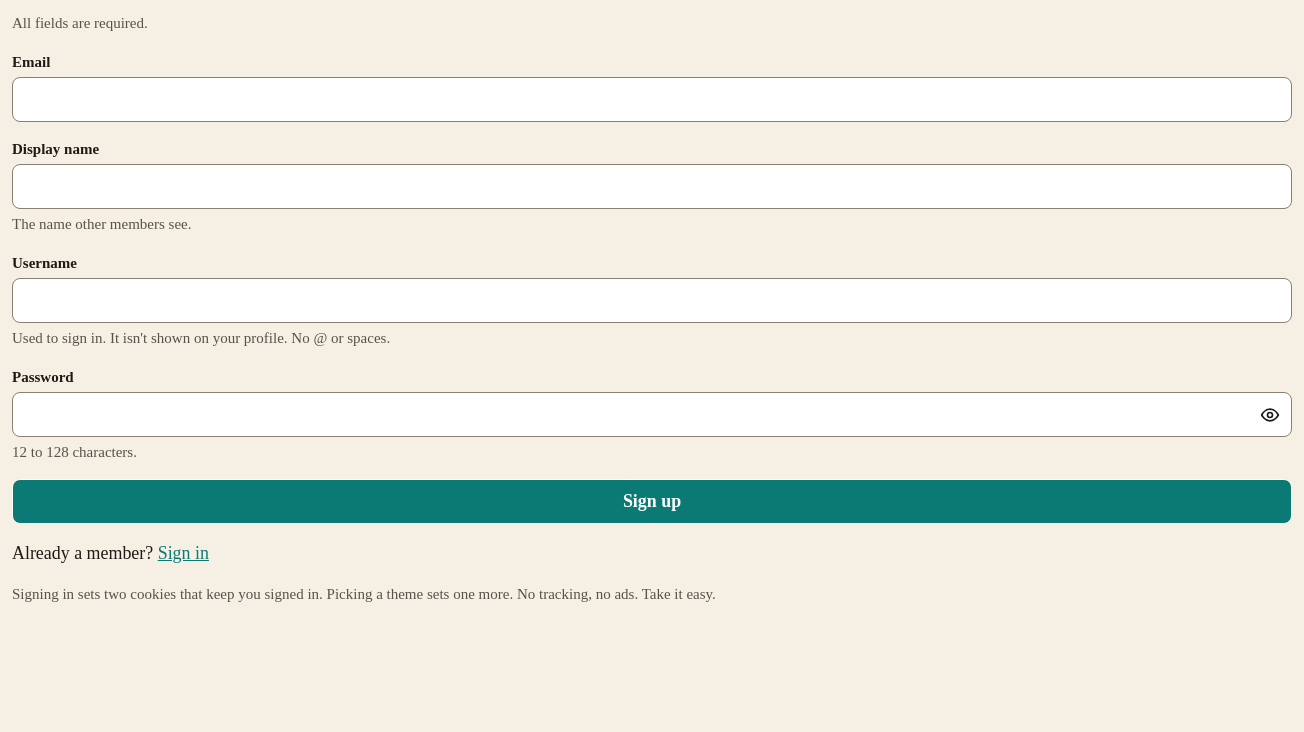
Test case: SignUpForm › keeps what was typed, never the password
Step 1. Type "e2e-walter@example.com" into the field labelled "Email" → (652, 99), box left=12, top=77, right=1292, bottom=122
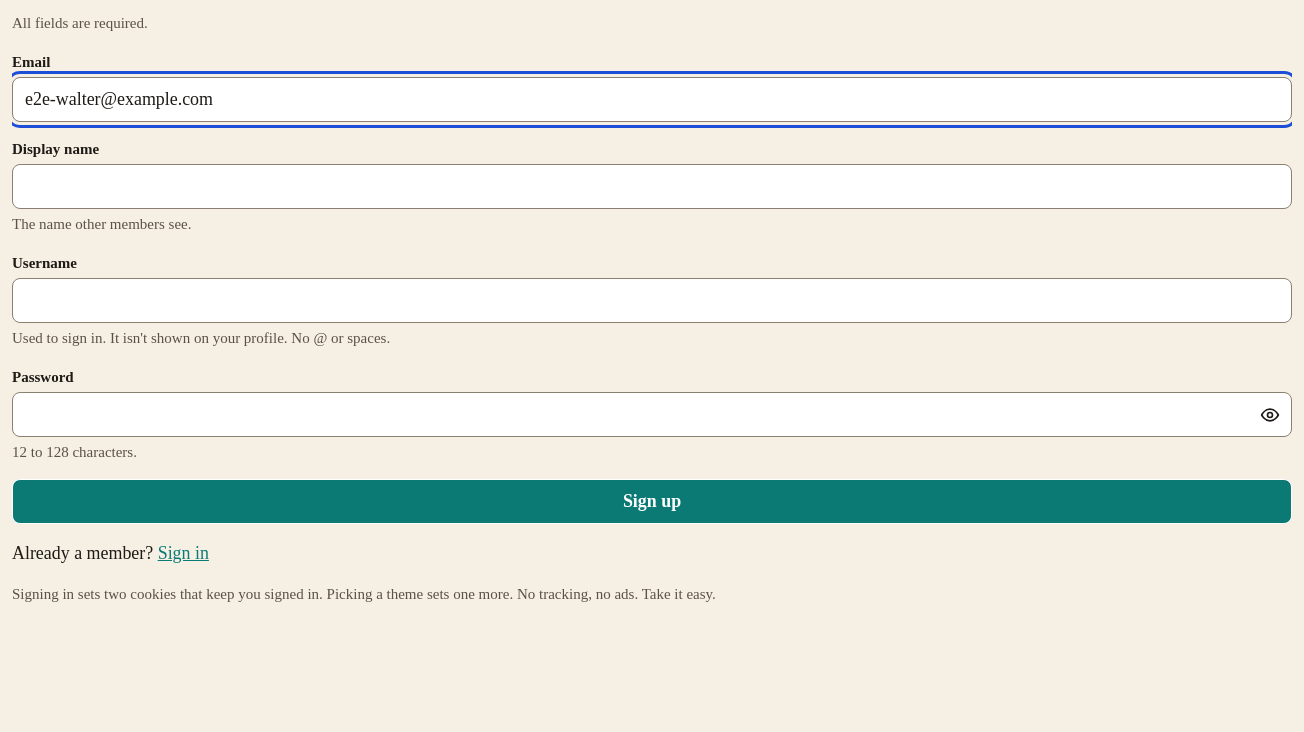
Step 2. Type "Walter" into the field labelled "Display name" → (652, 187), box left=12, top=164, right=1292, bottom=209
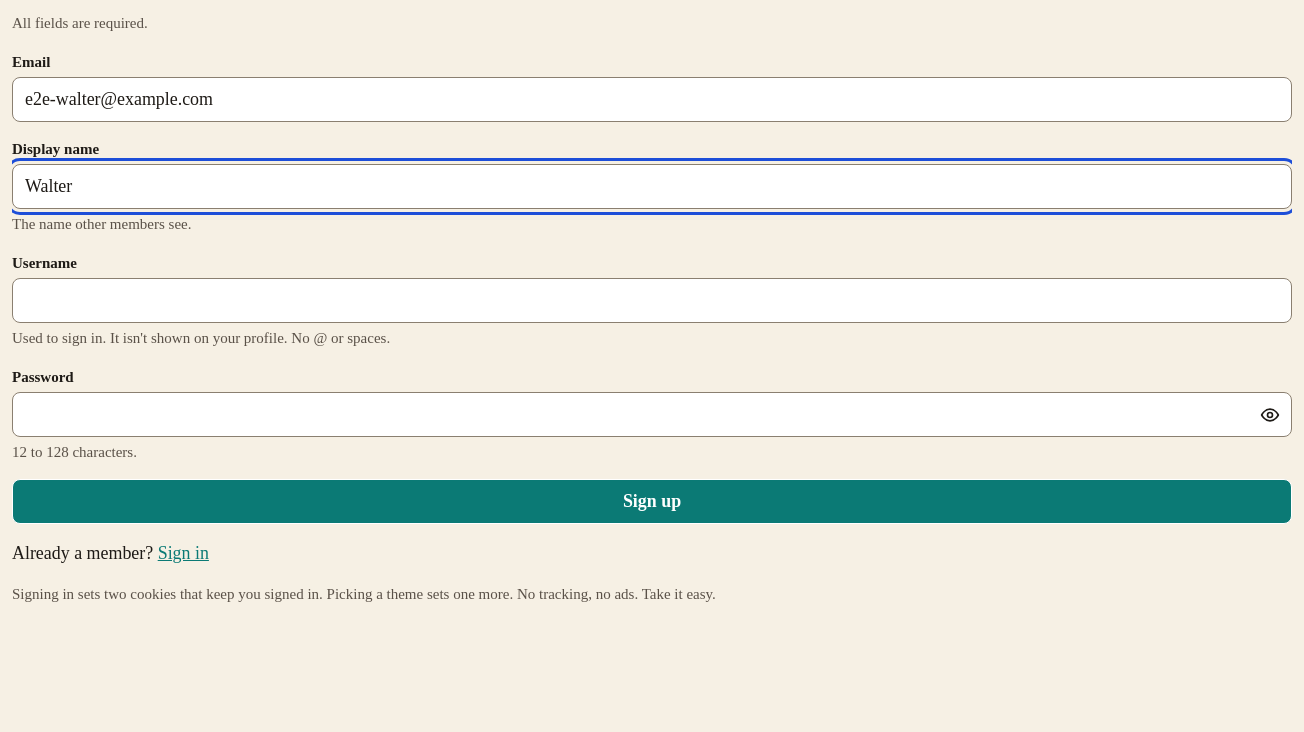
Step 3. Type "e2e-walter" into the field labelled "Username" → (652, 301), box left=12, top=278, right=1292, bottom=323
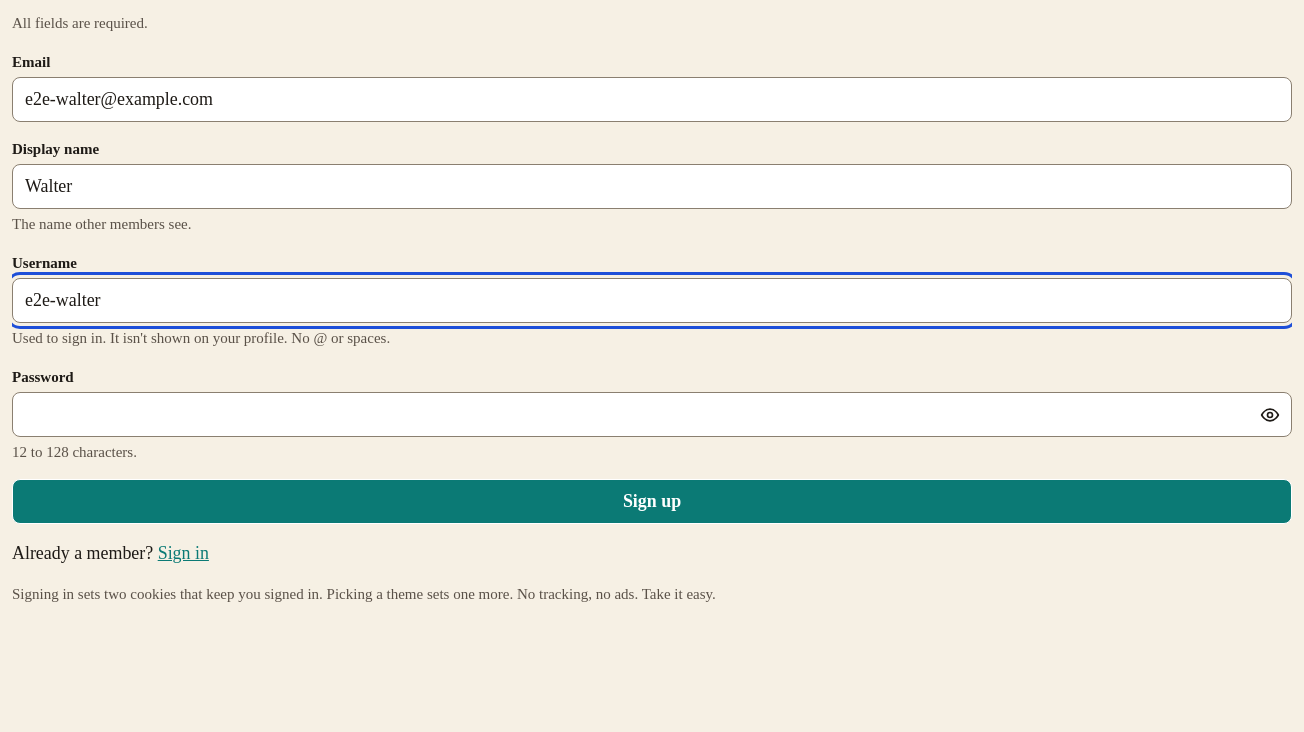
Step 4. Type "not-a-real-password" into the password field labelled "Password" → (652, 415), box left=12, top=392, right=1292, bottom=437
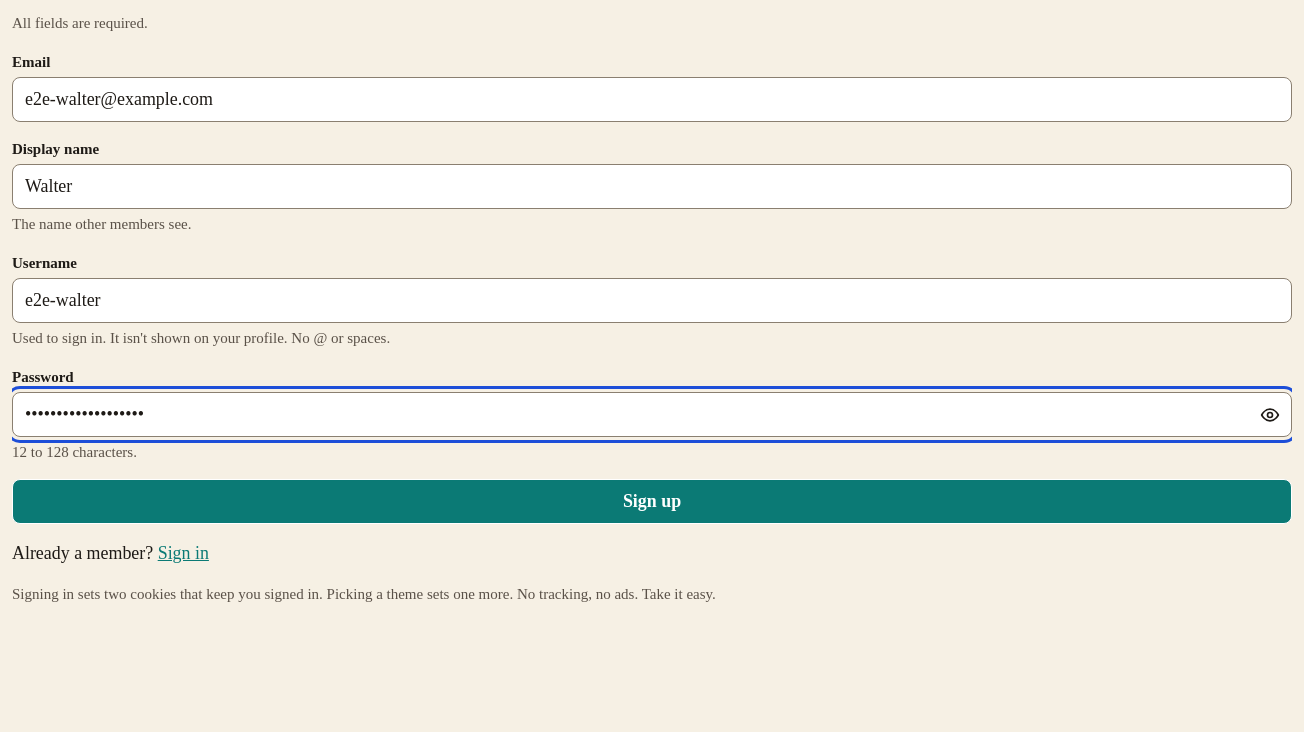
Step 5. Click the button "Sign up" → (652, 502), box left=12, top=479, right=1292, bottom=524
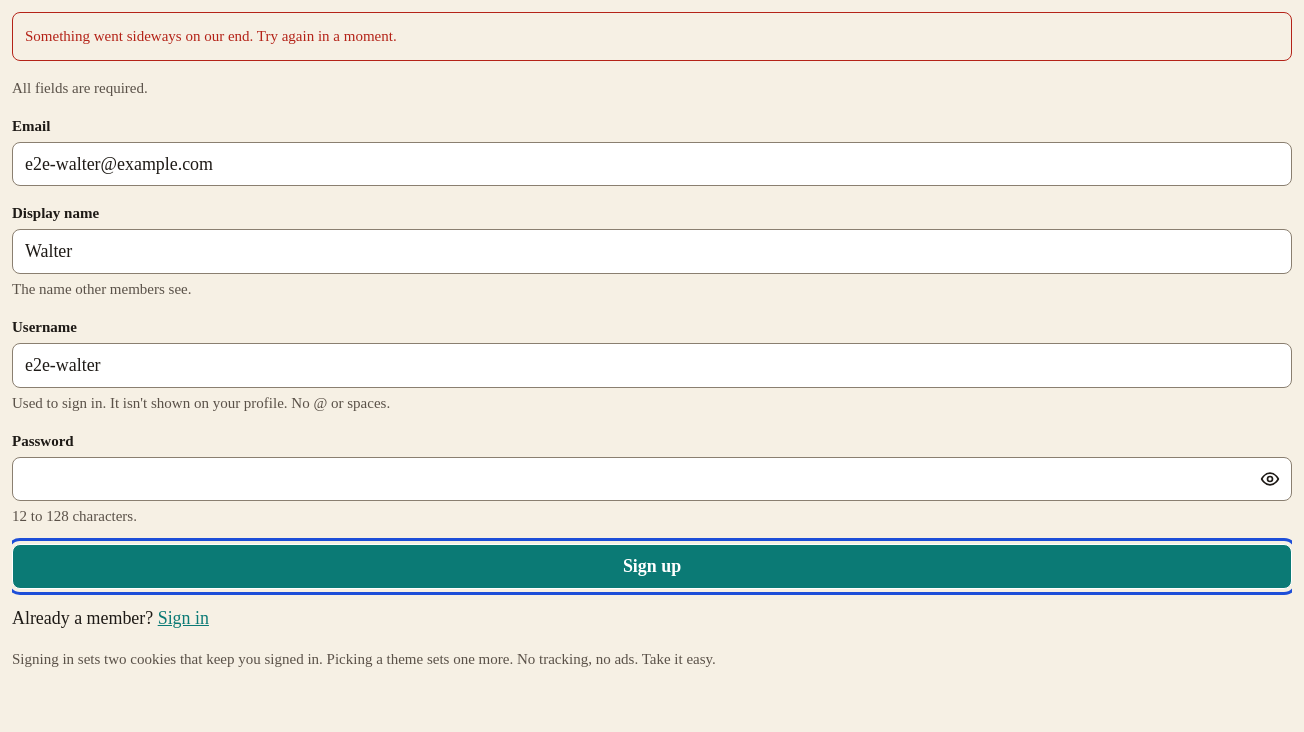
Now the message reads "Something went sideways on our end. Try again in a moment.", box left=25, top=28, right=397, bottom=44
Now the password field labelled "Password" is empty, box left=12, top=457, right=1292, bottom=502
